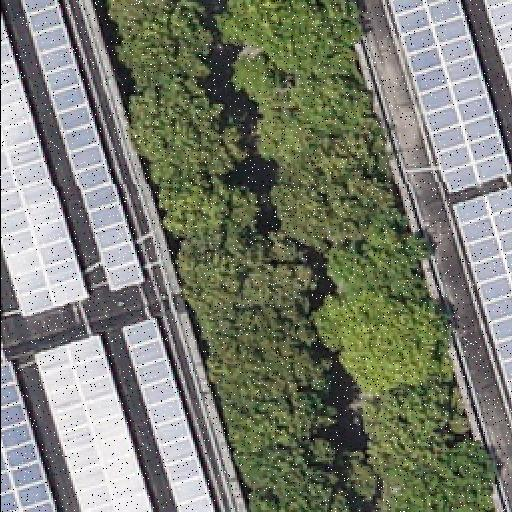solar-panel: (23, 0, 145, 292), (0, 7, 90, 321), (388, 0, 512, 196), (34, 336, 154, 512), (121, 320, 215, 512), (449, 185, 511, 407), (0, 360, 58, 512), (481, 1, 511, 95)
